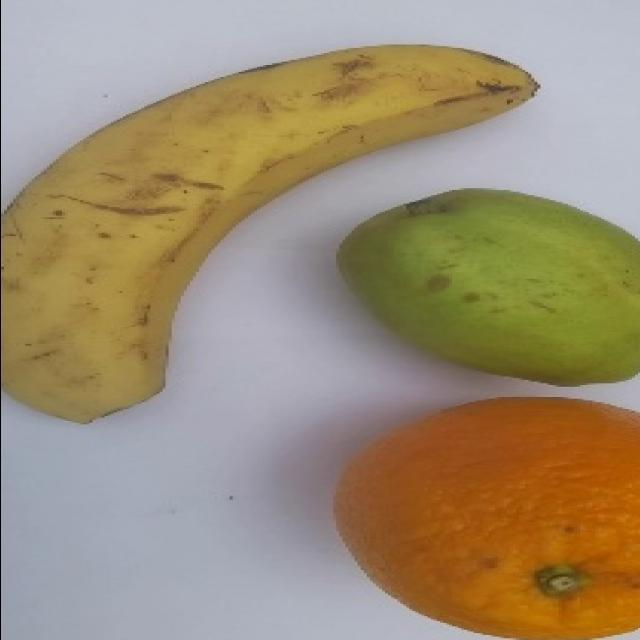Banana: (0, 42, 540, 424)
Orange: (331, 395, 639, 639)
